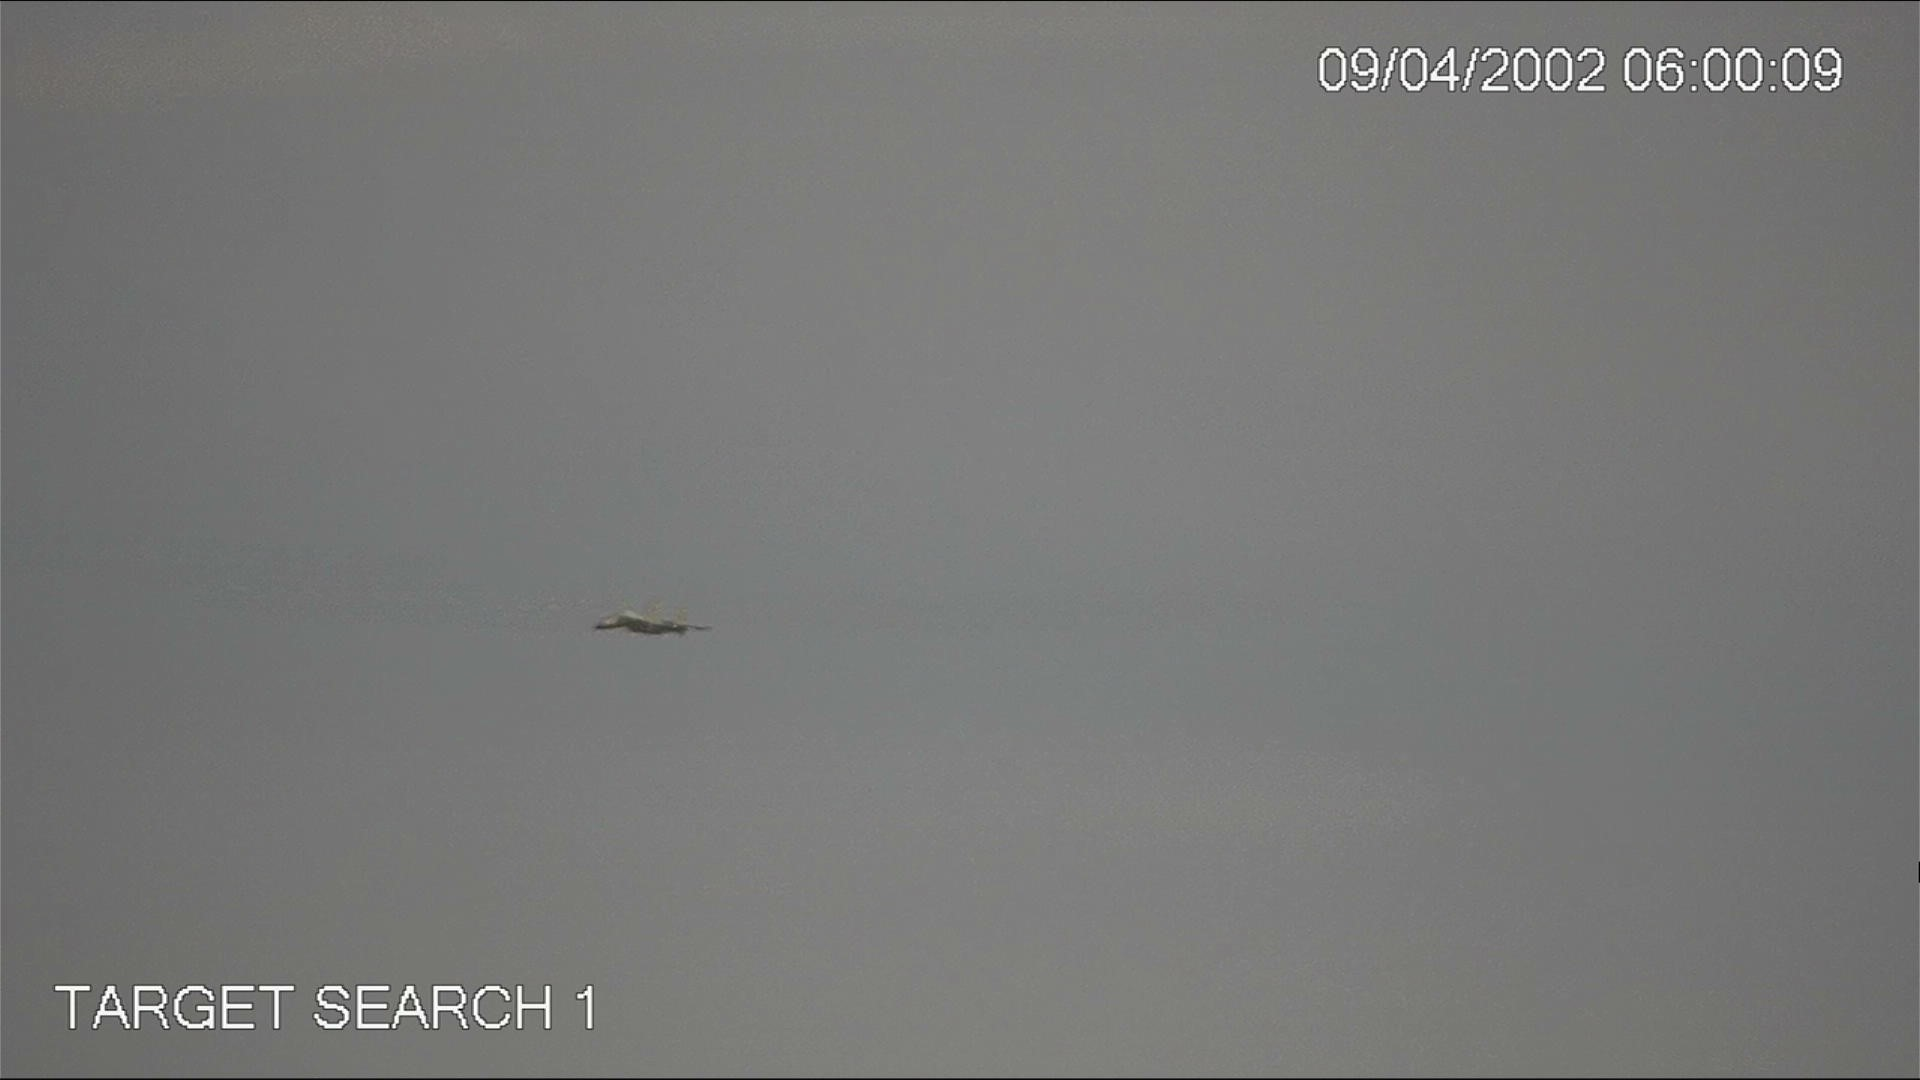SU_30: (589, 605, 707, 637)
